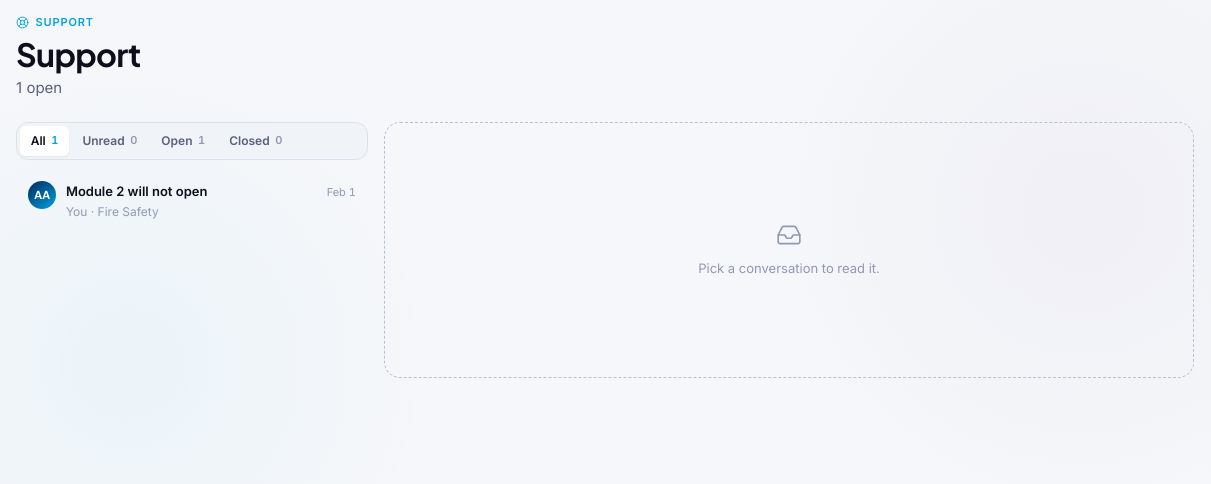
Test: the inbox › opens a thread and reads it
The image size is (1211, 484).
Click the button "AA Module 2 will not open Feb 1 You · Fire Safety".
click(137, 191)  # box [16,170,368,237]
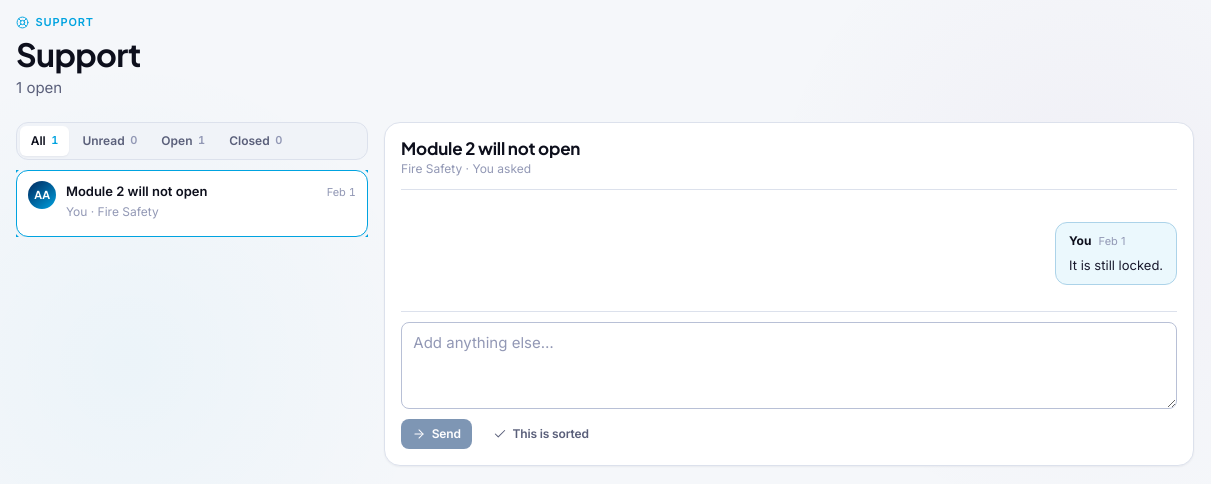
Now the text "It is still locked." is shown, box [1069,255,1163,275]
Now the text "Pick a conversation to read it." is gone
